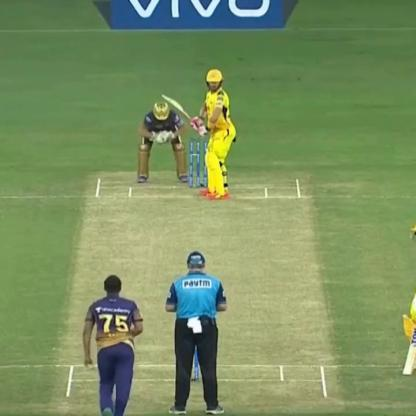bat: (161, 88, 204, 128)
pitch: (56, 168, 340, 416)
